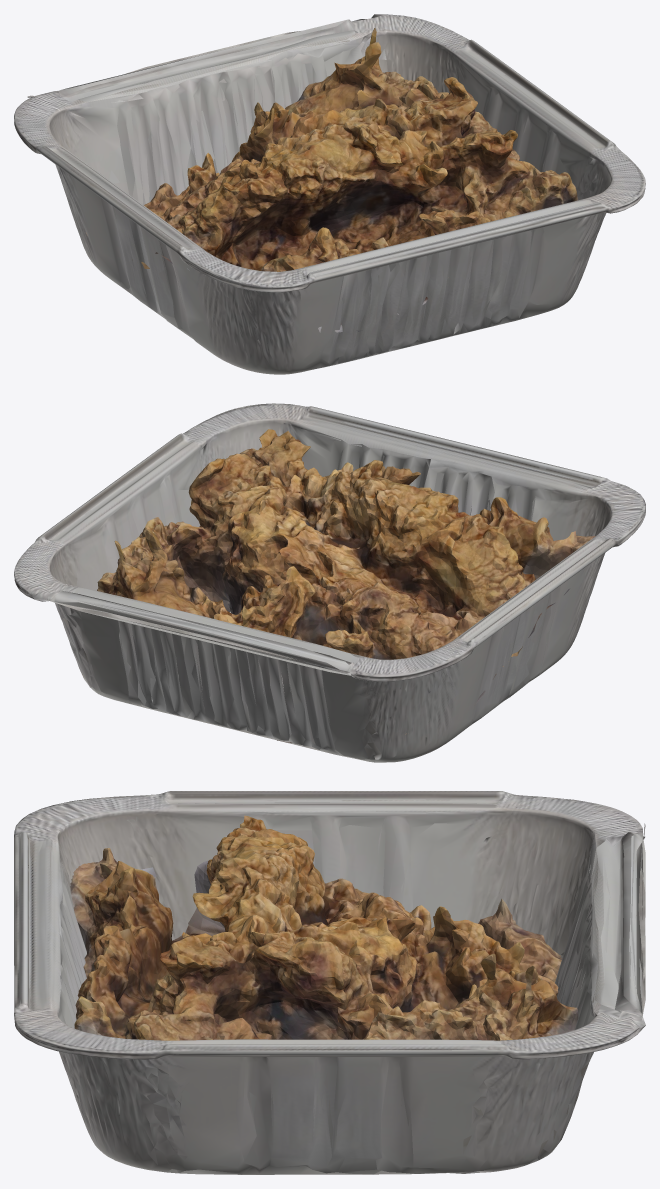
Rendered from srip.kg.glb.
The picture shows the model from 3 angles, top to bottom: view 1: azimuth 30°, elevation 25°; view 2: azimuth 150°, elevation 25°; view 3: azimuth 270°, elevation 25°; orthographic projection. The views are drawn at different scales.
Parts seen in each view (by area): view 1: node_0, Mesh_0.024; view 2: node_0, Mesh_0.024; view 3: node_0, Mesh_0.024.
Boxes of the visible parts, x1,y1,x2,y2 form: node_0: (14,14,645,374); Mesh_0.024: (86,28,578,332); node_0: (14,403,645,762); Mesh_0.024: (97,429,595,742); node_0: (14,791,645,1174); Mesh_0.024: (70,815,578,1040).
Size of the model in its own units: 0.2719 by 0.1062 by 0.2808.
Materials: 2 (2 with a texture image).
